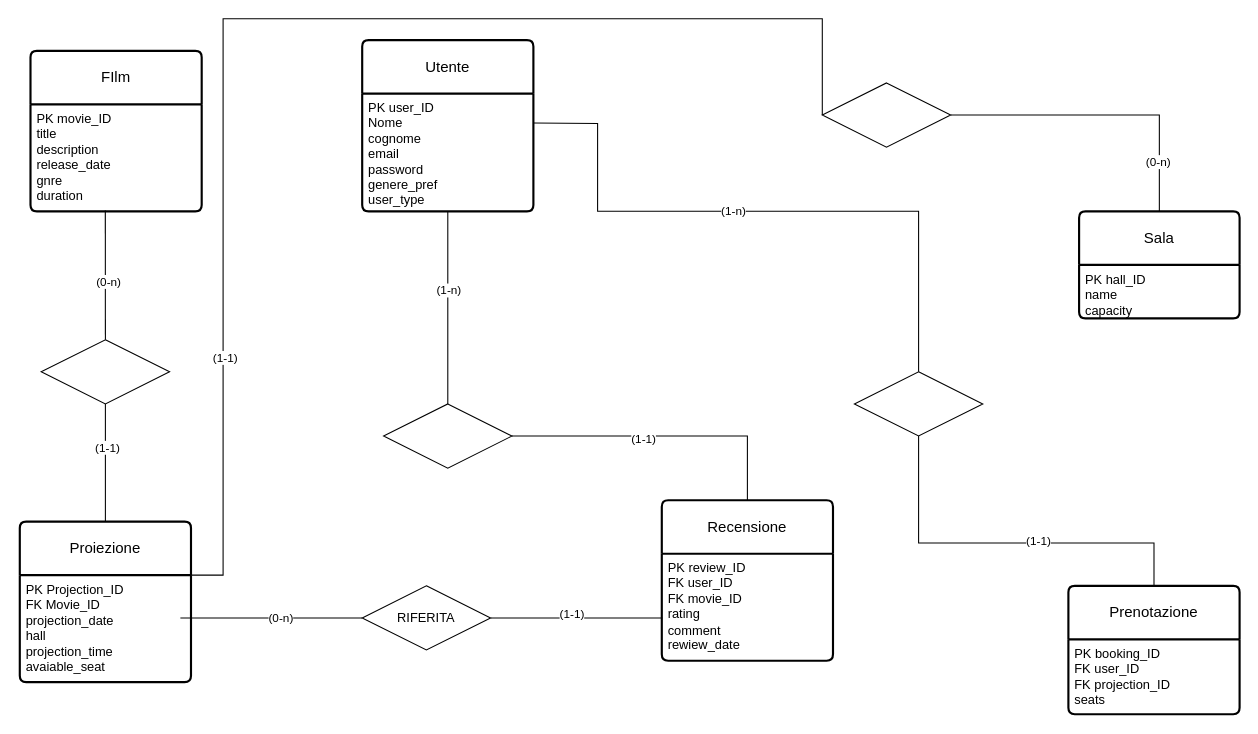
Image size: 1258x734. Some labels were removed from this diagram. Here are the shapes that lost their labels. From the top down, the centre of each, then its label:
the point at 886,114: CONTIENE
the point at 105,371: INCLUSO
the point at 918,403: EFFETTUA
the point at 447,435: SCRITTA
